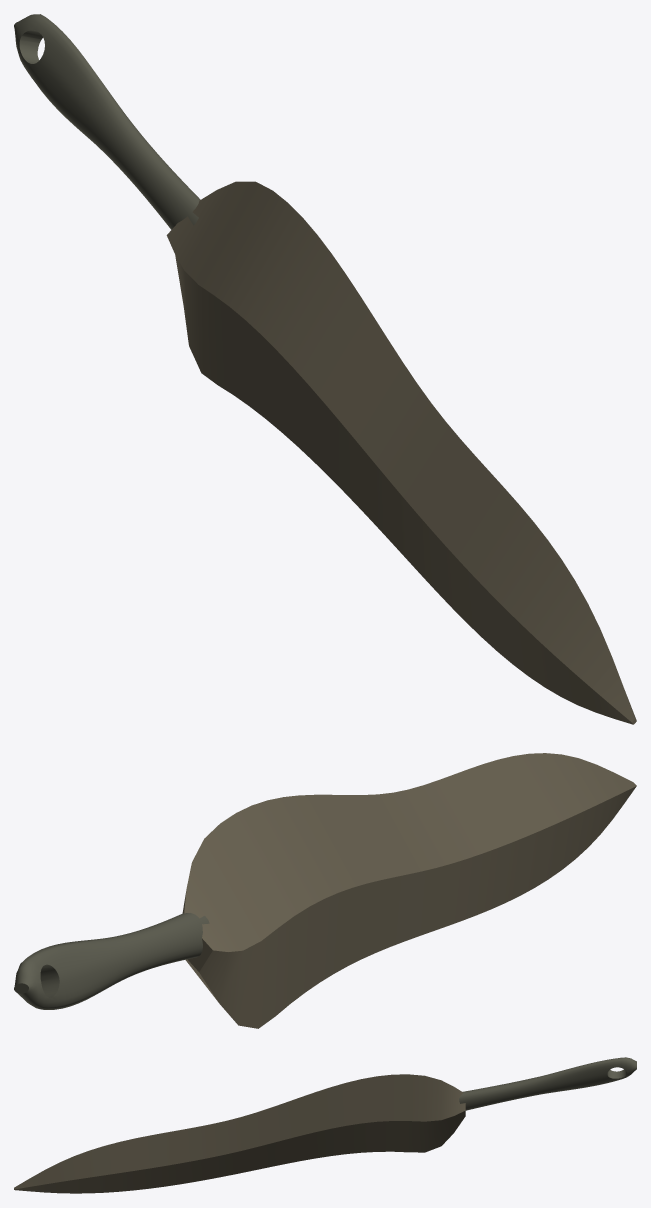
The picture shows the model from 3 angles, top to bottom: view 1: azimuth 30°, elevation 25°; view 2: azimuth 150°, elevation 25°; view 3: azimuth 270°, elevation 25°; orthographic projection. The views are drawn at different scales.
Visible parts, largest first — view 1: spearhead; view 2: spearhead; view 3: spearhead.
Boxes of the visible parts, x1,y1,x2,y2 form: spearhead: (14,14,636,724); spearhead: (14,753,636,1028); spearhead: (14,1057,636,1193).
Size of the model in its own units: 0.0121 by 0.0515 by 0.2055.
